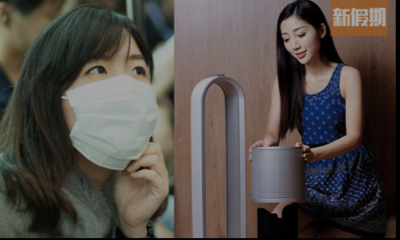with_mask: (62, 51, 159, 172)
without_mask: (278, 23, 321, 67)
